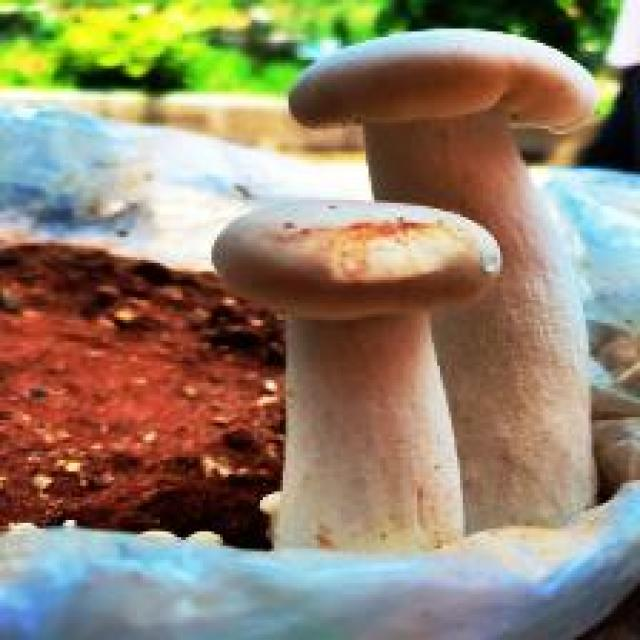field-mushroom: (208, 194, 503, 552)
